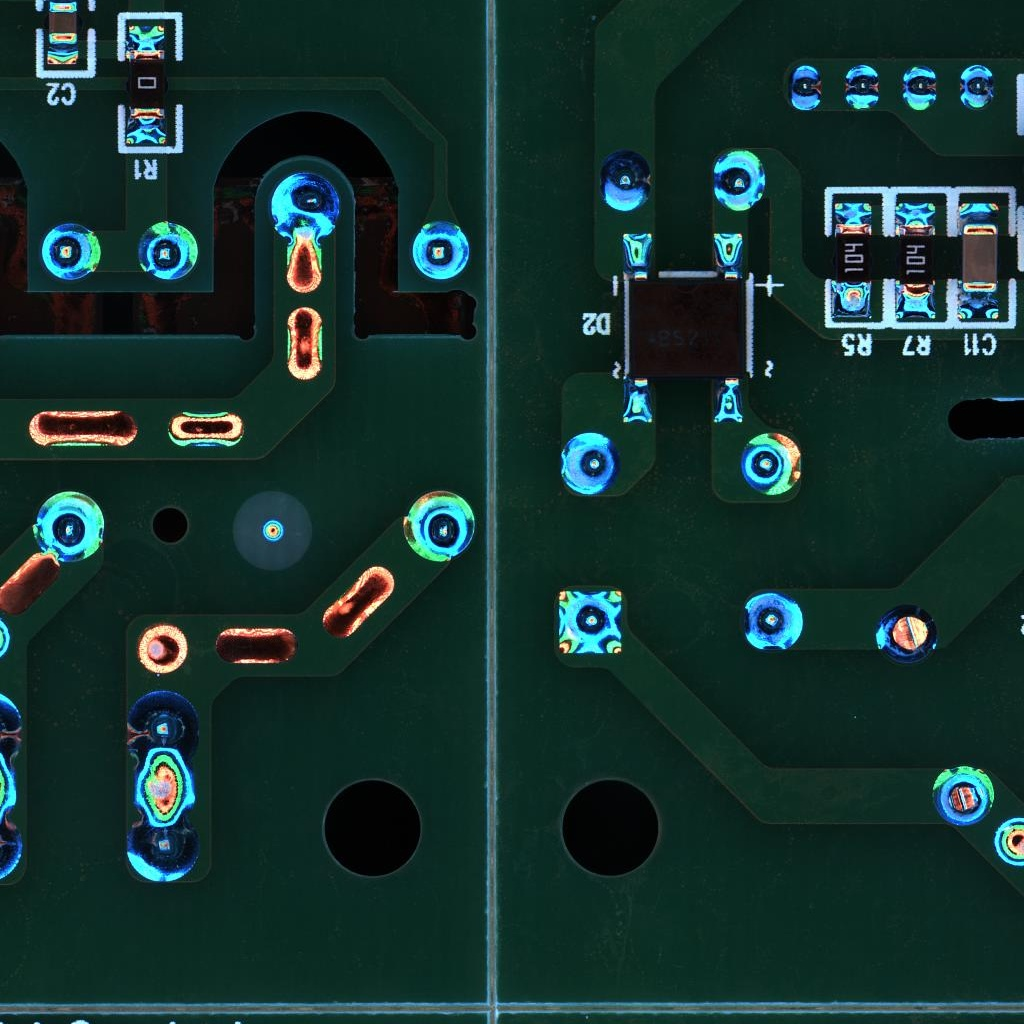spot: (123, 691, 206, 769), (398, 487, 479, 565), (118, 814, 203, 885), (27, 488, 105, 564), (265, 170, 340, 243), (553, 587, 627, 658), (737, 430, 805, 497), (557, 428, 622, 498), (873, 602, 940, 667), (740, 590, 806, 654), (135, 219, 202, 282), (38, 222, 104, 284), (410, 217, 472, 281), (931, 764, 992, 829), (709, 145, 767, 213), (599, 148, 656, 213), (786, 60, 825, 112), (842, 61, 881, 112), (991, 813, 1024, 871), (902, 60, 938, 113), (958, 62, 996, 111)
